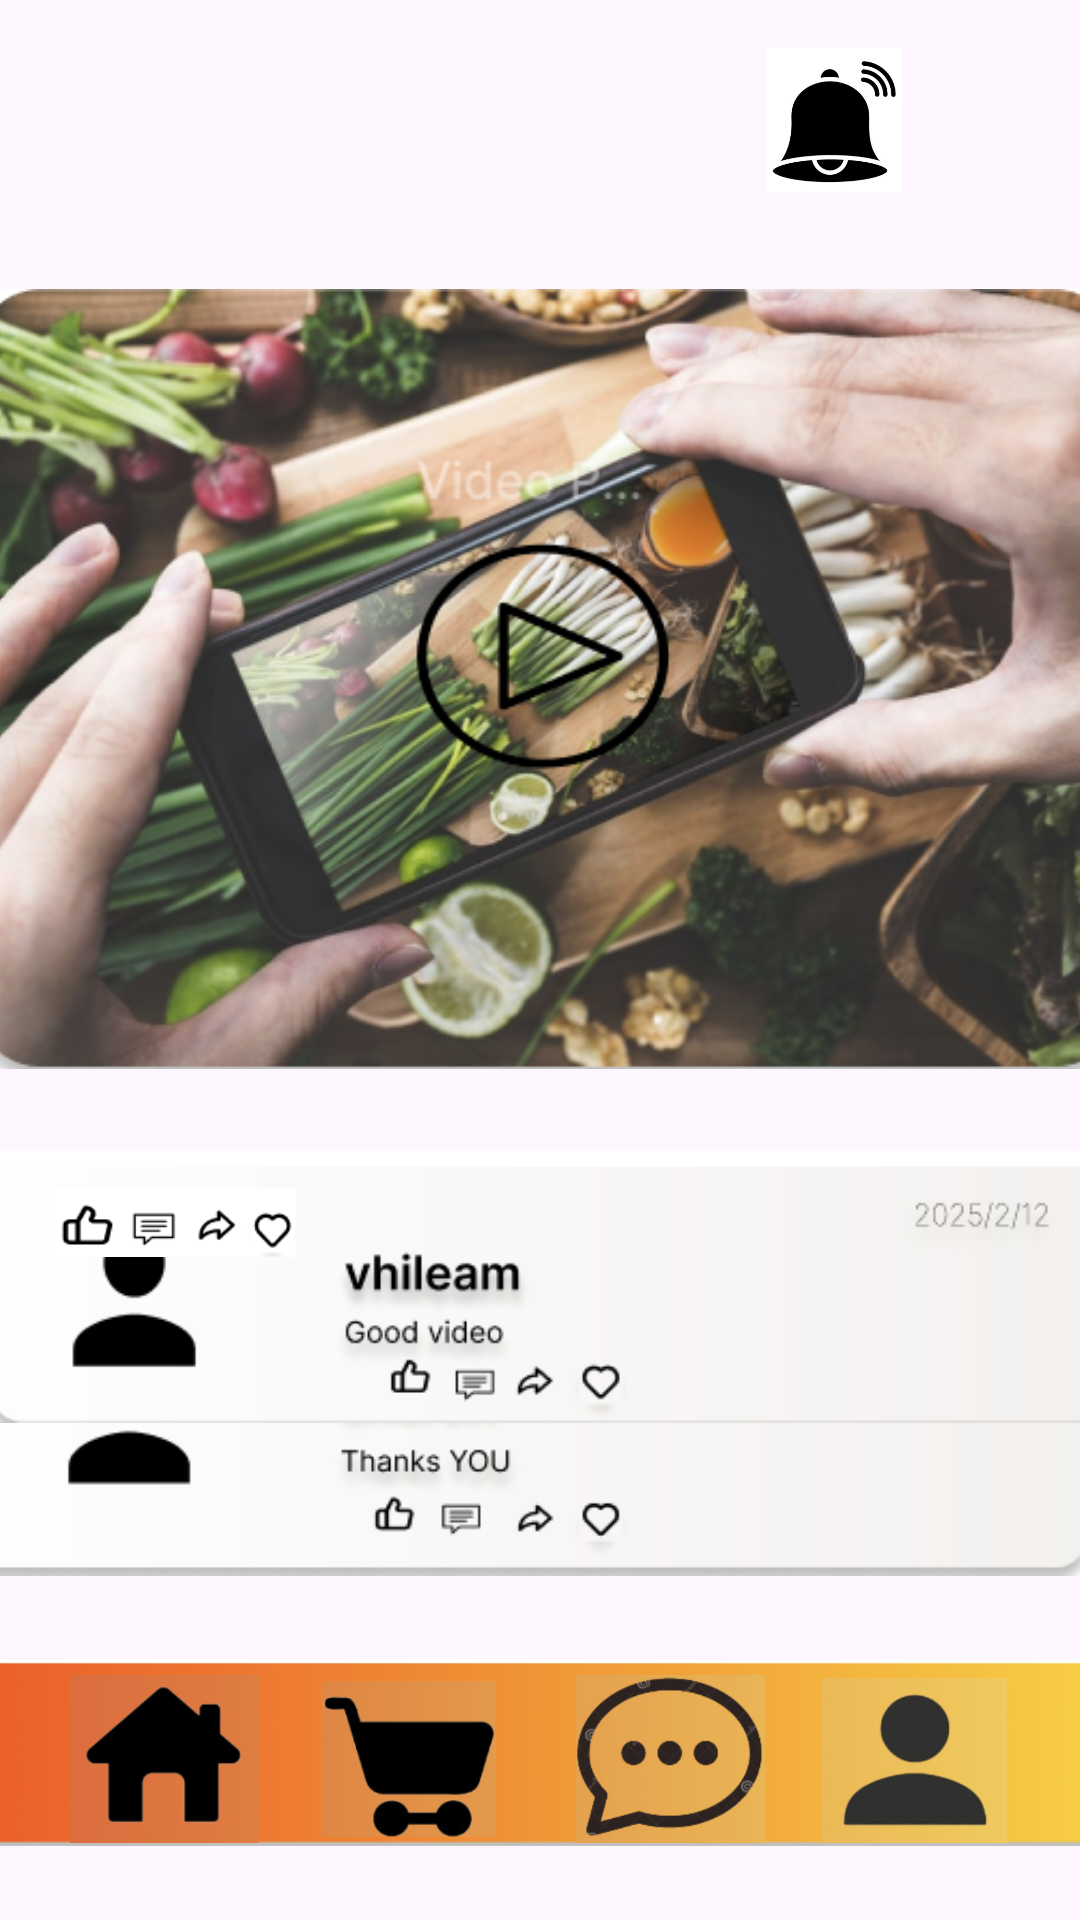

Point at icon controls on the screen. Image size 1080×1920, points as (x,y).
go to account page: (914,1760)
go to cart page: (384,1759)
go to chat page: (670,1759)
go to home page: (164,1759)
go to notification page: (834,121)
